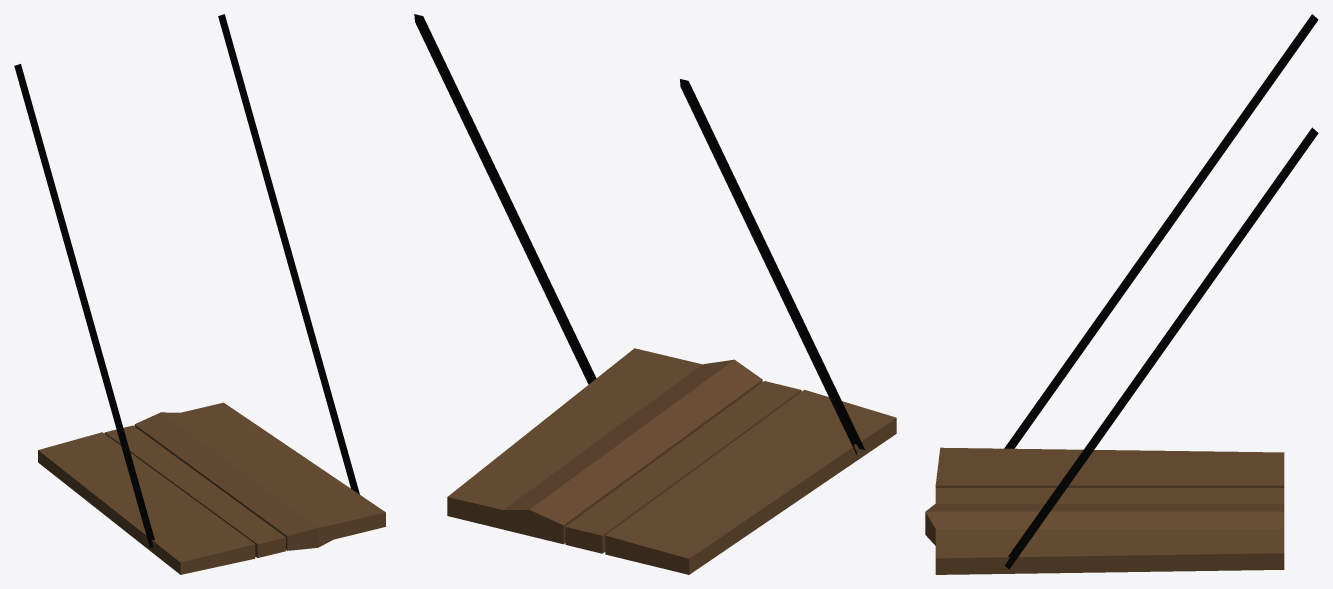
File: drawbridge-medieval.glb
The picture shows the model from 3 angles, left to right: view 1: azimuth 30°, elevation 25°; view 2: azimuth 150°, elevation 25°; view 3: azimuth 270°, elevation 25°; orthographic projection. The views are drawn at different scales.
Visible parts, largest first — view 1: drawbridge-medieval; view 2: drawbridge-medieval; view 3: drawbridge-medieval.
Part boxes in pixels (<box>): drawbridge-medieval: <box>14,14,385,574</box>; drawbridge-medieval: <box>414,14,896,574</box>; drawbridge-medieval: <box>925,14,1318,574</box>.
Bounding box in the file's own units: 3.53 × 6.26 × 5.
Materials: 1 (1 with a texture image).
